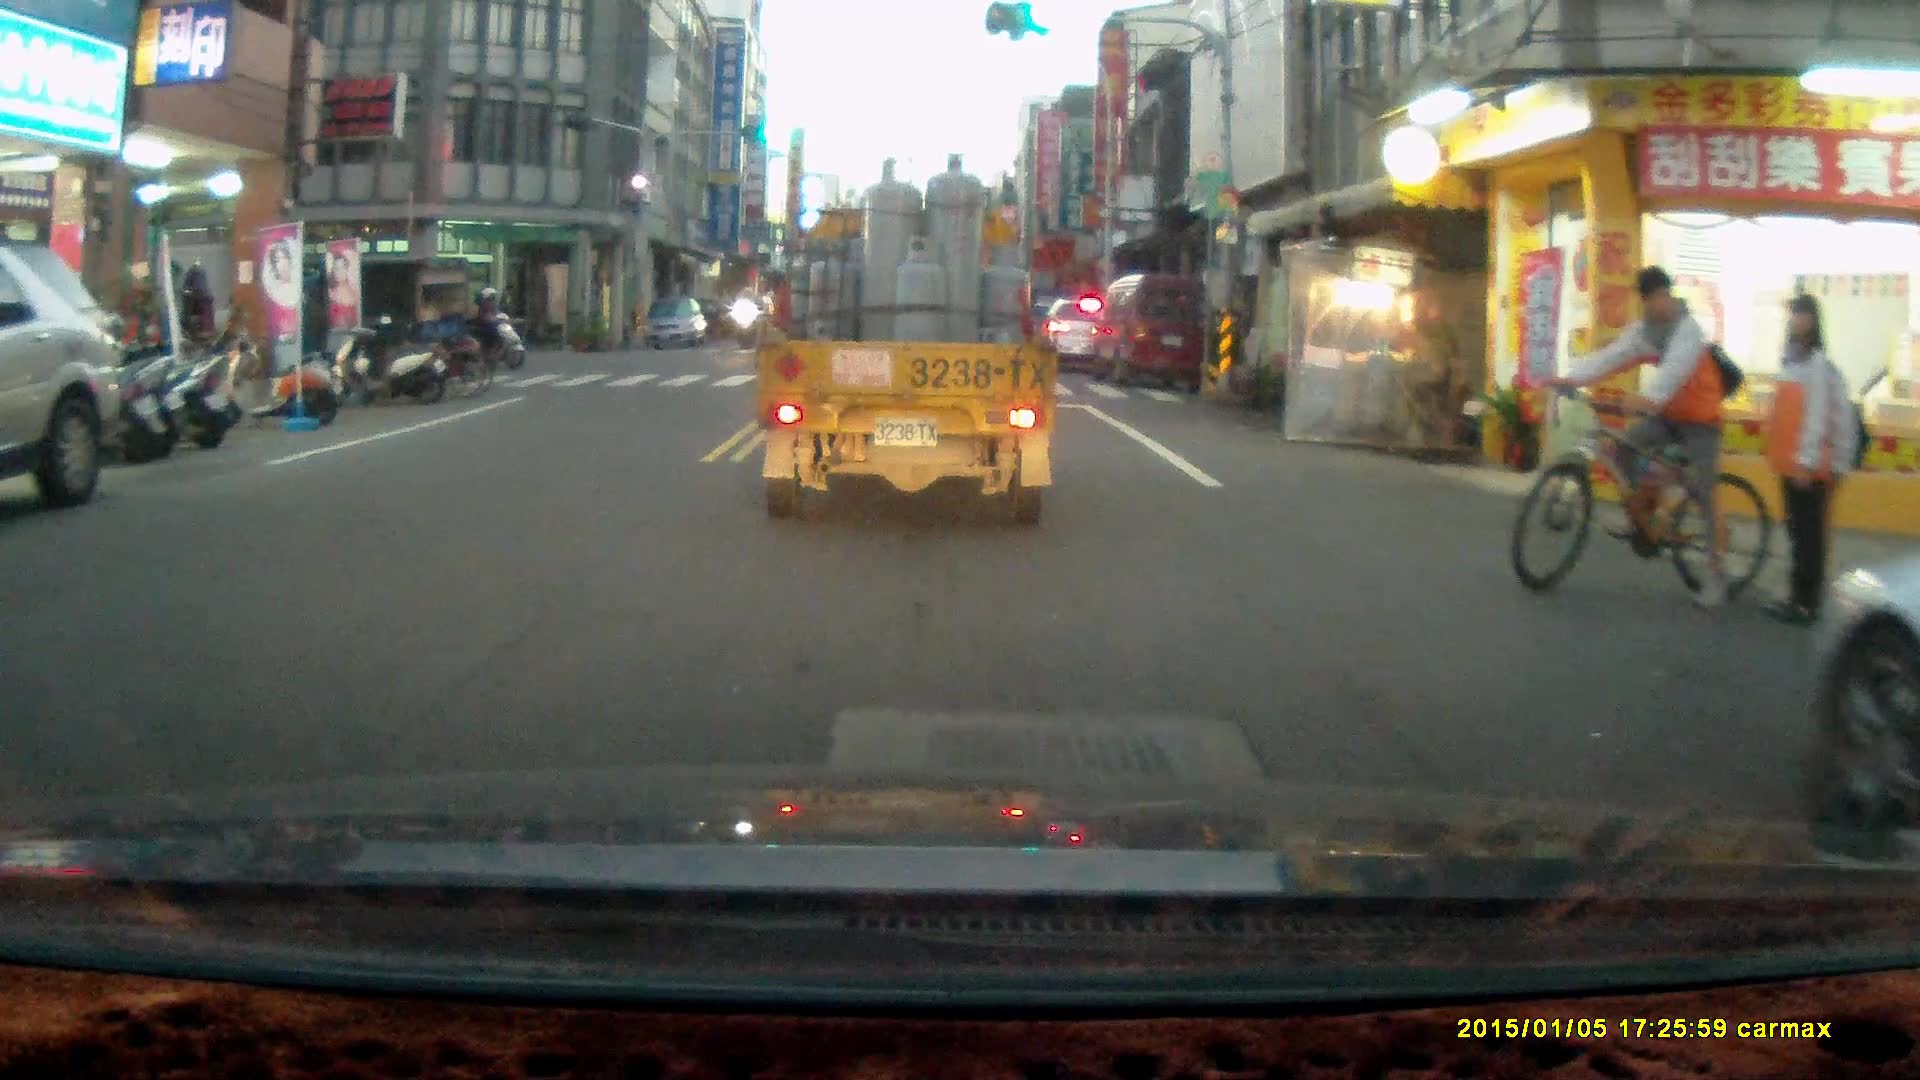pedestrian: (1754, 292, 1838, 626), (179, 264, 215, 375)
rider: (1513, 264, 1772, 613), (455, 283, 523, 372)
vehicle: (753, 161, 1045, 522), (1, 241, 126, 508), (285, 247, 480, 371), (1091, 272, 1214, 390), (1042, 295, 1114, 373), (642, 297, 710, 350)
